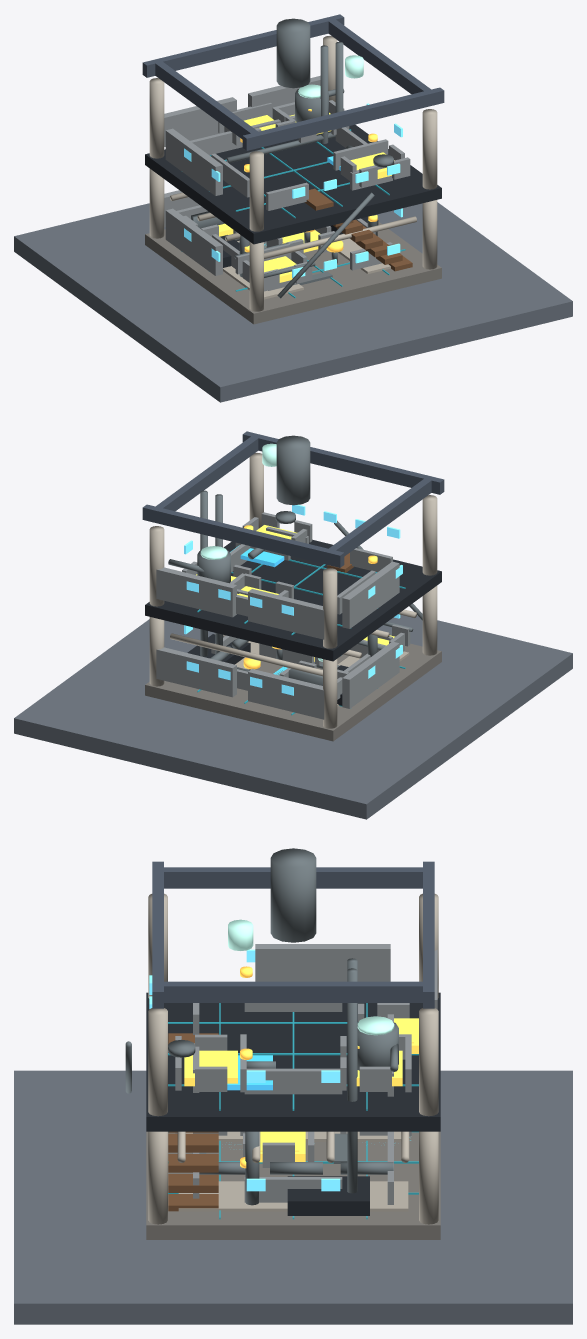
The picture shows the model from 3 angles, top to bottom: view 1: azimuth 30°, elevation 25°; view 2: azimuth 150°, elevation 25°; view 3: azimuth 270°, elevation 25°; orthographic projection. The views are drawn at different scales.
Visible parts, largest first — view 1: ProfileGround.006, BuildingFloor_2.003, BuildingFloor_1.003, RoofSouth.001, RoofNorth.001, BuildingVerticalLandmark.001, SideWall_2.003, SideWall_1.003, RoofWest.001, RoofEast.001, BackWall_2_-1.003, Column_2_1_-1.003 (+17 smaller); view 2: ProfileGround.006, BuildingFloor_2.003, BuildingFloor_1.003, RoofNorth.001, BackWall_1_1.003, BackWall_2_1.003, RoofSouth.001, BackWall_1_-1.003, BackWall_2_-1.003, BuildingVerticalLandmark.001, SideWall_2.003, SideWall_1.003 (+14 smaller); view 3: ProfileGround.006, BuildingFloor_2.003, BuildingFloor_1.003, RoofEast.001, SideWall_2.003, RoofWest.001, BuildingVerticalLandmark.001, SewerWalkway_visual_undertide_sewer_1, SewerBranch_visual_undertide_sewer_1, Column_2_1_-1.003, Column_2_1_1.003, FloorRooms_visual_undertide_sewer_1_East (+23 smaller).
Boxes of the visible parts, left/top/right/bottom form: ProfileGround.006: left=14, top=202, right=572, bottom=402; BuildingFloor_2.003: left=145, top=124, right=441, bottom=244; BuildingFloor_1.003: left=145, top=221, right=441, bottom=324; RoofSouth.001: left=242, top=87, right=444, bottom=150; RoofNorth.001: left=142, top=14, right=344, bottom=77; BuildingVerticalLandmark.001: left=276, top=18, right=310, bottom=88; SideWall_2.003: left=165, top=128, right=222, bottom=195; SideWall_1.003: left=165, top=208, right=222, bottom=275; RoofWest.001: left=155, top=61, right=258, bottom=139; RoofEast.001: left=328, top=19, right=431, bottom=94; BackWall_2_-1.003: left=164, top=97, right=236, bottom=146; Column_2_1_-1.003: left=422, top=109, right=437, bottom=189; ProfileGround.006: left=14, top=614, right=572, bottom=819; BuildingFloor_2.003: left=145, top=539, right=441, bottom=661; BuildingFloor_1.003: left=145, top=634, right=441, bottom=741; RoofNorth.001: left=142, top=504, right=344, bottom=567; BackWall_1_1.003: left=156, top=647, right=236, bottom=697; BackWall_2_1.003: left=156, top=567, right=236, bottom=617; RoofSouth.001: left=242, top=431, right=444, bottom=494; BackWall_1_-1.003: left=248, top=669, right=324, bottom=719; BackWall_2_-1.003: left=248, top=589, right=324, bottom=639; BuildingVerticalLandmark.001: left=276, top=435, right=310, bottom=505; SideWall_2.003: left=342, top=561, right=399, bottom=628; SideWall_1.003: left=342, top=641, right=399, bottom=708; ProfileGround.006: left=14, top=1070, right=572, bottom=1324; BuildingFloor_2.003: left=146, top=992, right=440, bottom=1131; BuildingFloor_1.003: left=146, top=1131, right=440, bottom=1239; RoofEast.001: left=161, top=981, right=425, bottom=1002; SideWall_2.003: left=255, top=944, right=390, bottom=981; RoofWest.001: left=161, top=867, right=424, bottom=888; BuildingVerticalLandmark.001: left=270, top=848, right=316, bottom=942; SewerWalkway_visual_undertide_sewer_1: left=178, top=1181, right=408, bottom=1211; SewerBranch_visual_undertide_sewer_1: left=287, top=1176, right=369, bottom=1215; Column_2_1_-1.003: left=148, top=1008, right=167, bottom=1116; Column_2_1_1.003: left=419, top=1008, right=438, bottom=1116; FloorRooms_visual_undertide_sewer_1_East: left=244, top=1068, right=342, bottom=1094.
Bounding box in the file's own units: 4.8 × 3.36 × 4.86.
